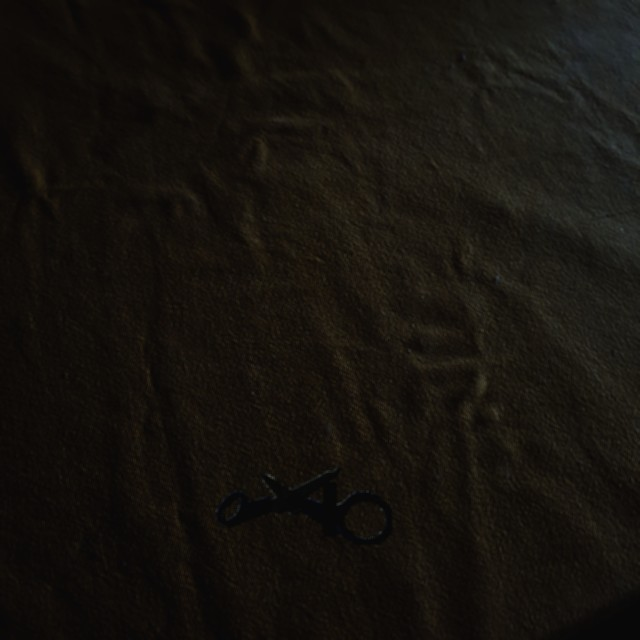scissors: (215, 466, 392, 545)
